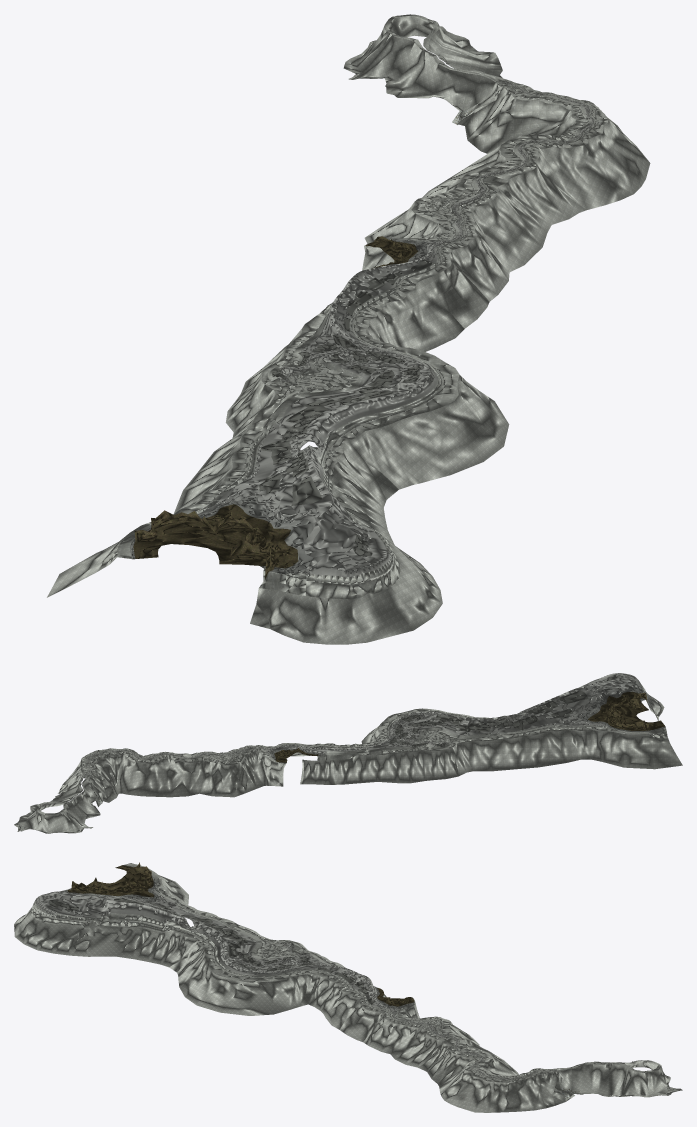
3 views of the same model, one above another, from view 1: azimuth 30°, elevation 25°; view 2: azimuth 150°, elevation 25°; view 3: azimuth 270°, elevation 25° (orthographic). The views are drawn at different scales.
Visible parts, largest first — view 1: mesh1, mesh4, mesh3, mesh7, mesh0, mesh6, mesh8, mesh5; view 2: mesh1, mesh4, mesh7, mesh3, mesh0, mesh6, mesh8, mesh5; view 3: mesh1, mesh4, mesh3, mesh7, mesh0, mesh8, mesh6.
Part boxes in pixels (x1,y1,x2,y2): mesh1: (47,14,650,644); mesh4: (197,83,594,577); mesh3: (117,81,597,591); mesh7: (259,260,433,556); mesh0: (138,238,410,571); mesh6: (130,239,427,574); mesh8: (134,236,414,579); mesh5: (133,240,418,568); mesh1: (14,690,682,833); mesh4: (84,673,641,776); mesh7: (289,675,619,748); mesh3: (82,683,666,778); mesh0: (276,694,664,762); mesh6: (269,686,665,763); mesh8: (275,692,649,762); mesh5: (274,691,664,762); mesh1: (14,868,682,1112); mesh4: (35,887,554,1079); mesh3: (33,863,556,1080); mesh7: (48,897,375,1004); mesh0: (70,865,413,1004); mesh8: (71,862,414,1005); mesh6: (58,865,413,1009).
Size of the model in its own units: 473 by 34.35 by 556.
